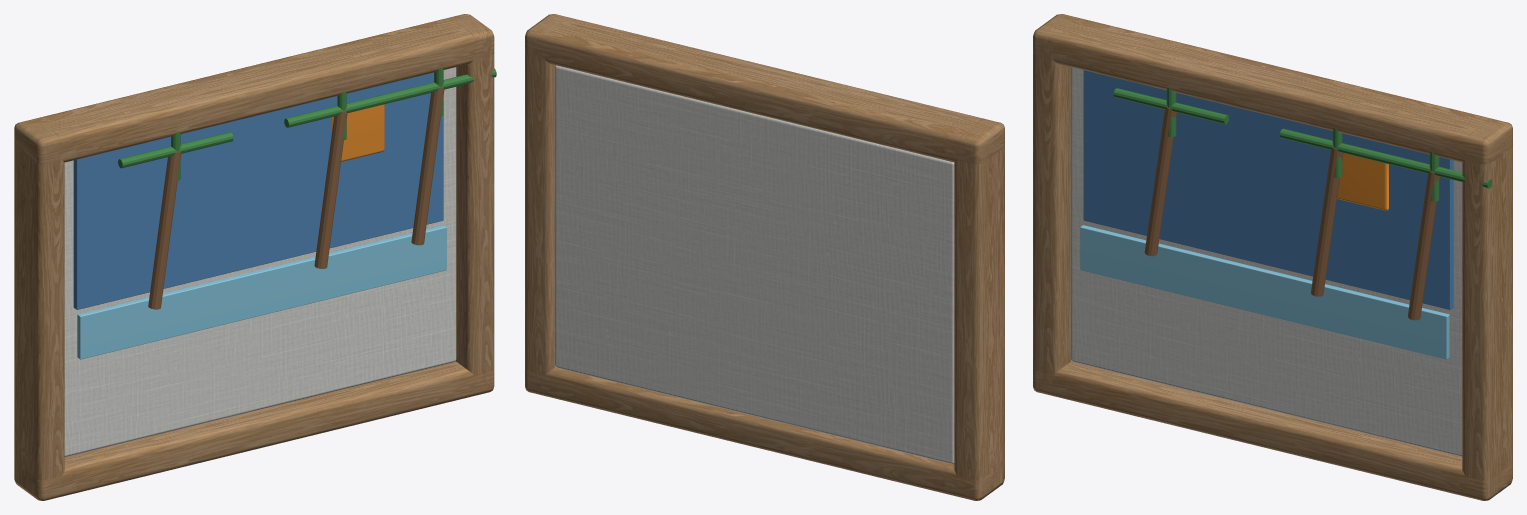
File: framed_picture_black.glb
The picture shows the model from 3 angles, left to right: view 1: azimuth 30°, elevation 25°; view 2: azimuth 150°, elevation 25°; view 3: azimuth 330°, elevation 25°; orthographic projection.
Visible parts, largest first — view 1: painted sky, canvas, frame rail.001, frame upright, frame rail, river, frame upright.001, painted palm trunk.002, painted palm trunk, painted palm trunk.001, sun, painted frond.006 (+2 smaller); view 2: canvas, frame rail.001, frame upright, frame rail, frame upright.001; view 3: painted sky, canvas, frame rail.001, frame rail, frame upright.001, river, frame upright, sun, painted palm trunk.002, painted palm trunk, painted palm trunk.001, painted frond (+3 smaller).
Part boxes in pixels (x1=…): painted sky: x1=73, y1=72, x2=443, y2=309; canvas: x1=64, y1=67, x2=456, y2=456; frame rail.001: x1=14, y1=14, x2=494, y2=164; frame upright: x1=14, y1=118, x2=64, y2=497; frame rail: x1=14, y1=361, x2=494, y2=500; river: x1=77, y1=225, x2=446, y2=359; frame upright.001: x1=451, y1=14, x2=494, y2=395; painted palm trunk.002: x1=411, y1=87, x2=444, y2=245; painted palm trunk: x1=148, y1=151, x2=181, y2=309; painted palm trunk.001: x1=314, y1=111, x2=347, y2=268; sun: x1=332, y1=104, x2=384, y2=161; painted frond.006: x1=284, y1=106, x2=343, y2=127; canvas: x1=554, y1=65, x2=954, y2=464; frame rail.001: x1=525, y1=14, x2=1004, y2=164; frame upright: x1=954, y1=118, x2=1004, y2=497; frame rail: x1=525, y1=367, x2=1004, y2=500; frame upright.001: x1=525, y1=14, x2=569, y2=395; painted sky: x1=1083, y1=70, x2=1453, y2=309; canvas: x1=1070, y1=67, x2=1462, y2=456; frame rail.001: x1=1033, y1=14, x2=1512, y2=164; frame rail: x1=1033, y1=361, x2=1512, y2=500; frame upright.001: x1=1462, y1=119, x2=1512, y2=500; river: x1=1080, y1=225, x2=1449, y2=359; frame upright: x1=1033, y1=14, x2=1076, y2=392; sun: x1=1337, y1=153, x2=1388, y2=210; painted palm trunk.002: x1=1408, y1=171, x2=1440, y2=320; painted palm trunk: x1=1144, y1=107, x2=1177, y2=256; painted palm trunk.001: x1=1311, y1=147, x2=1343, y2=296; painted frond: x1=1169, y1=102, x2=1228, y2=124.
Size of the model in its own units: 0.66 by 0.5 by 0.071.
Materials: 7 (2 with a texture image).
